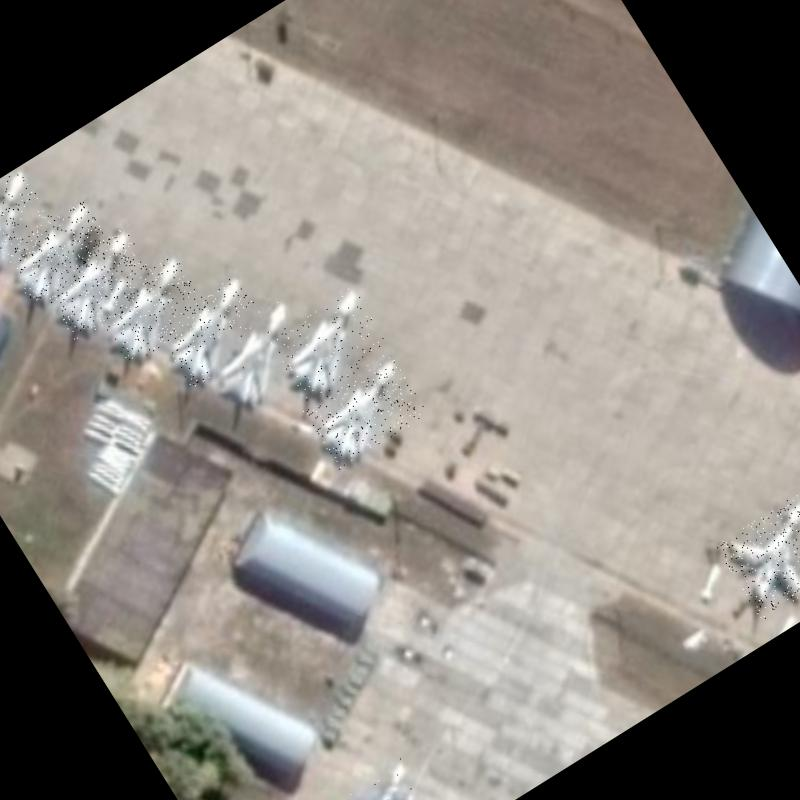A1: (319, 758, 446, 800)
A20: (268, 286, 394, 404), (198, 298, 323, 414), (303, 356, 429, 470), (38, 227, 162, 342), (91, 254, 213, 368), (153, 274, 275, 388), (0, 198, 118, 307), (715, 492, 800, 620), (0, 166, 61, 280)
